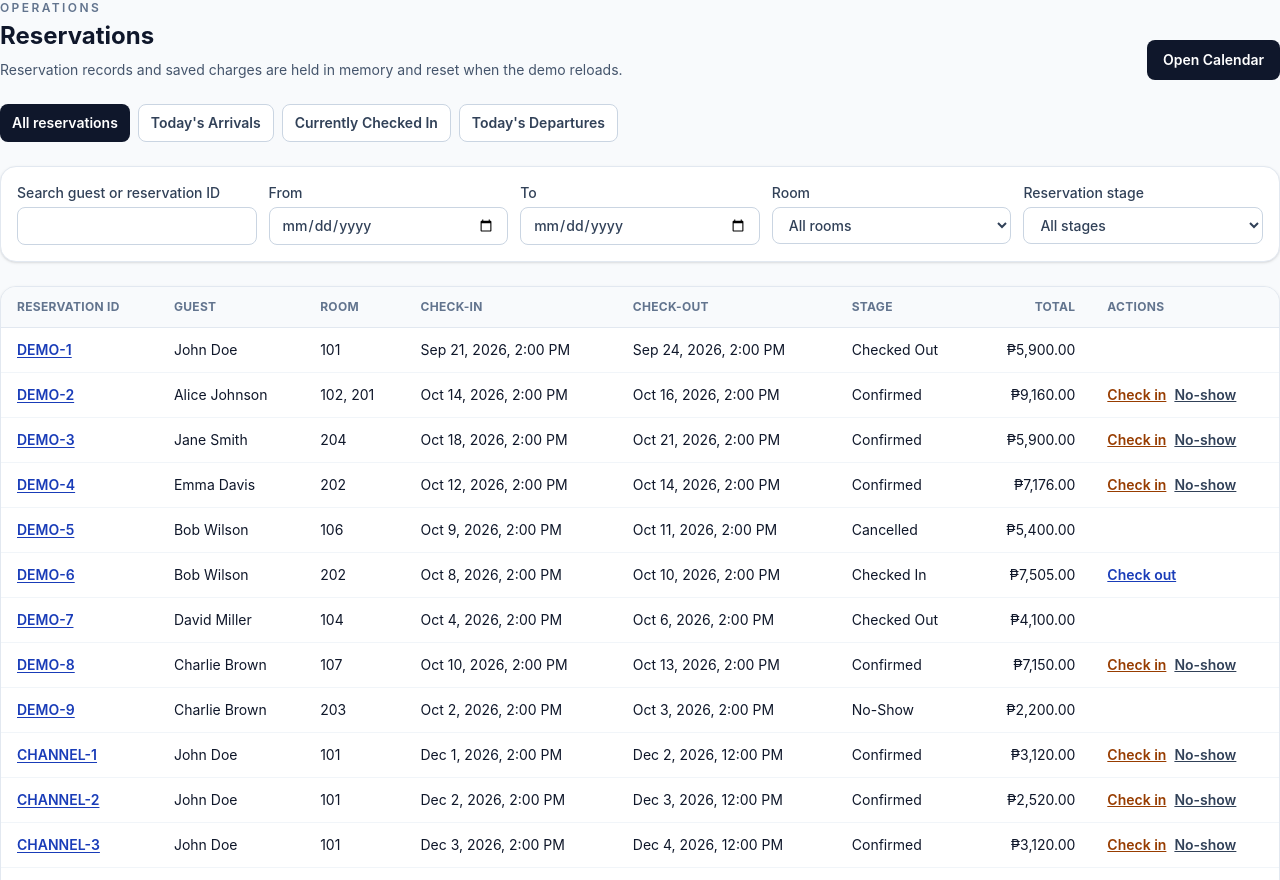
it: reservation operations › checks in and checks out all rooms while marking the room Dirty
Click the button "Check out" at (1142, 575), box x1=1107 y1=565 x2=1176 y2=585
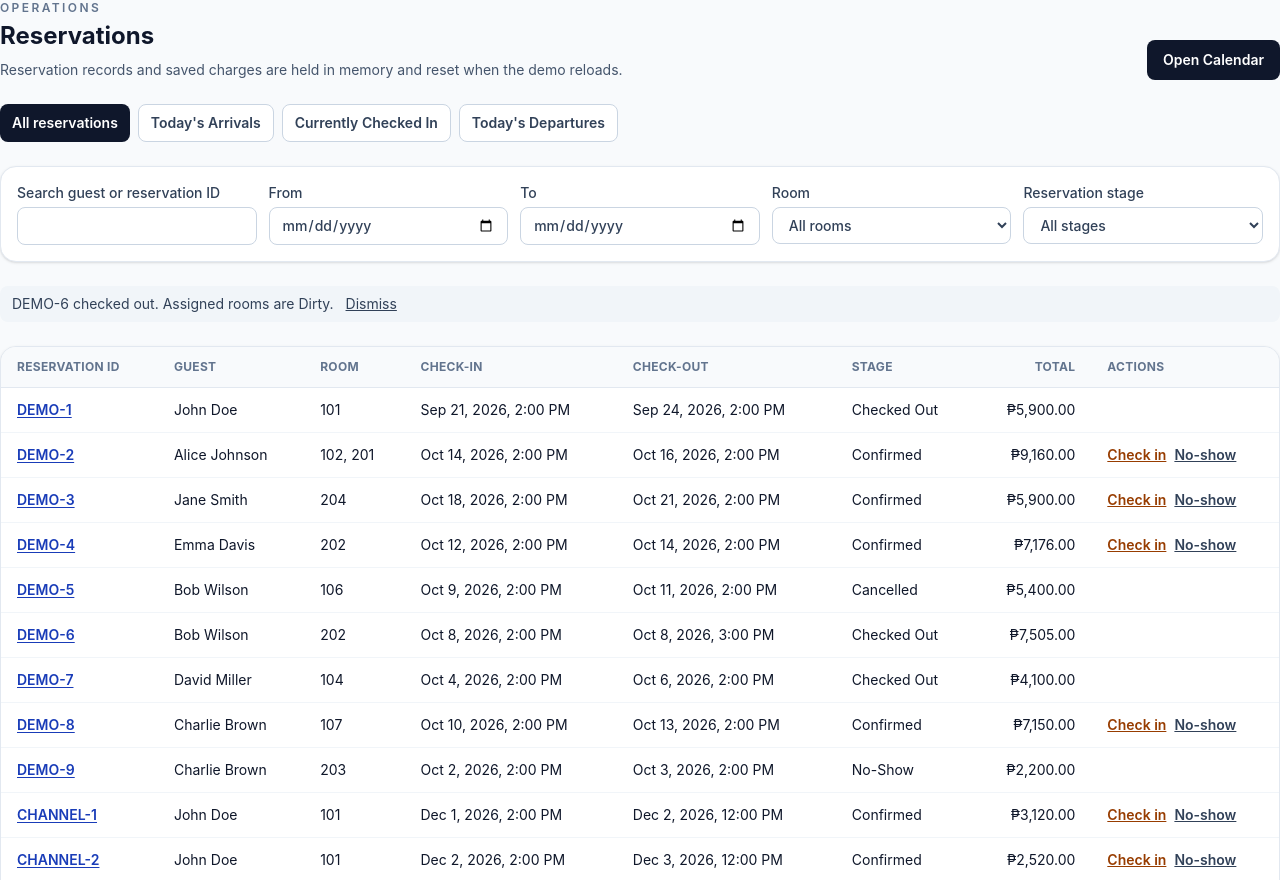
Check: the message shows "checked out", box x1=12 y1=295 x2=334 y2=312
Check: the text "checked out" in the row of "Oct 8, 2026, 2:00 PM" is shown, box x1=852 y1=626 x2=938 y2=643
Click the link "DEMO-6" at (46, 634), box x1=17 y1=626 x2=75 y2=643
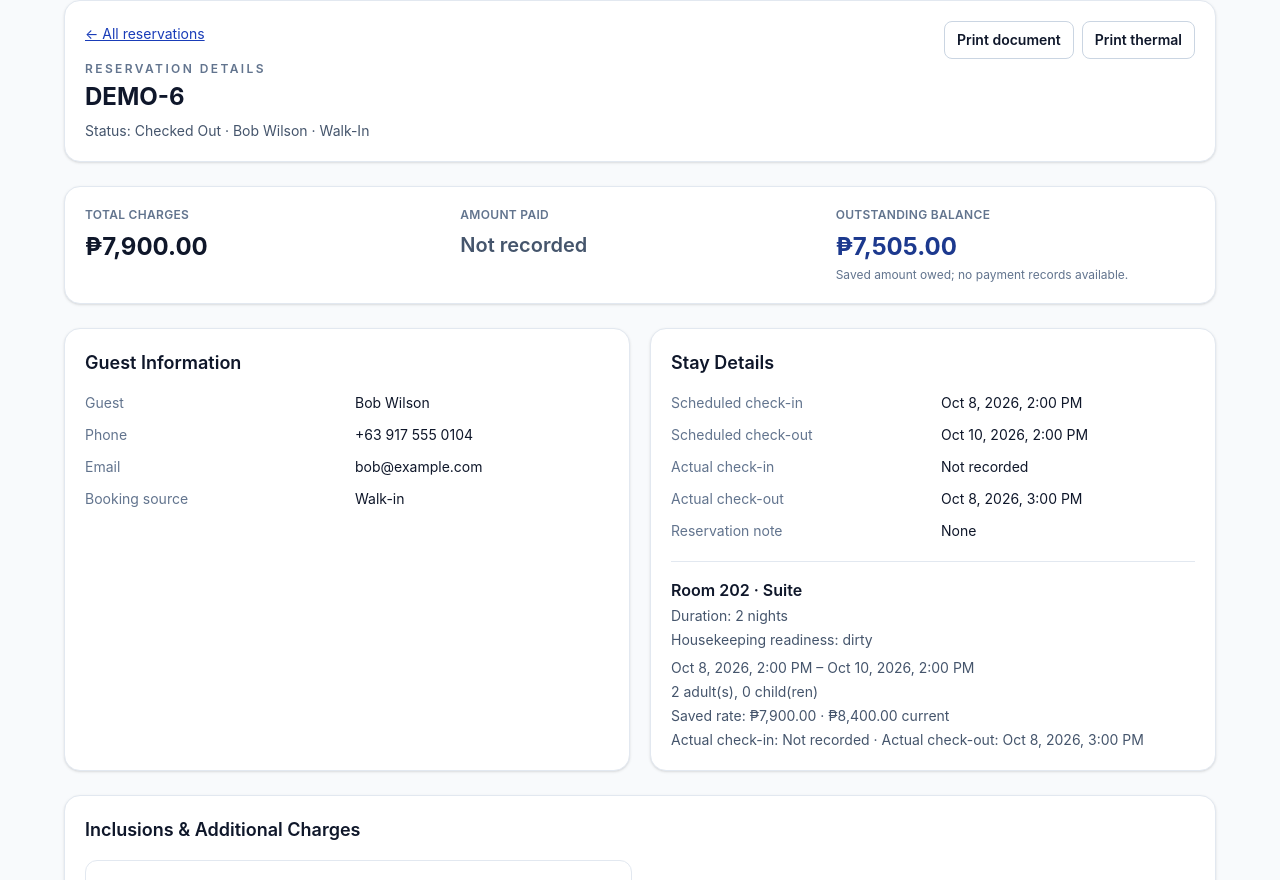
Check: the text "Housekeeping readiness: dirty" is shown, box x1=671 y1=631 x2=873 y2=648
